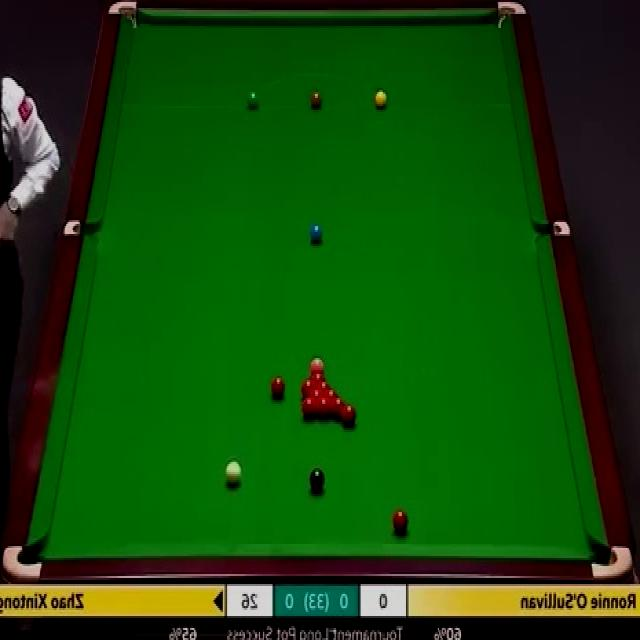black-ball: (309, 466, 325, 492)
blue-ball: (310, 222, 325, 244)
brown-ball: (310, 88, 322, 108)
green-ball: (247, 89, 260, 110)
pink-ball: (309, 356, 325, 370)
red-ball: (394, 509, 409, 536), (341, 404, 358, 426), (270, 376, 285, 400), (331, 397, 346, 420), (300, 398, 317, 418), (317, 396, 330, 419), (301, 378, 315, 396), (323, 389, 338, 401), (309, 372, 327, 382), (315, 381, 332, 391), (308, 388, 323, 399)
white-ball: (226, 462, 243, 486)
yellow-ball: (373, 91, 386, 111)
